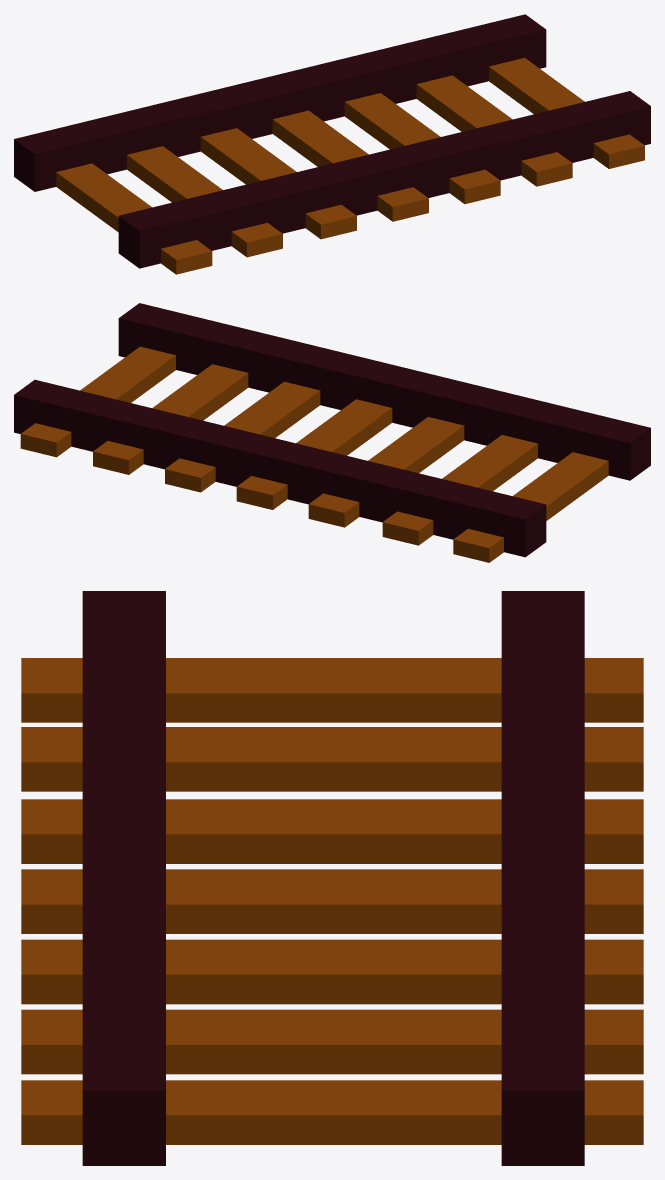
File: straightWood.fbx
3 renders of one model, top to bottom at view 1: azimuth 30°, elevation 25°; view 2: azimuth 150°, elevation 25°; view 3: azimuth 270°, elevation 25°, orthographic. The views are drawn at different scales.
Parts seen in each view (by area): view 1: Cube.001, Cube.003, Cube.002, Cube.005, Cube.006, Cube.007, Cube.008, Cube.004, Cube.009; view 2: Cube.003, Cube.001, Cube.002, Cube.006, Cube.005, Cube.004, Cube.009, Cube.008, Cube.007; view 3: Cube.001, Cube.003, Cube.007, Cube.008, Cube.002, Cube.004, Cube.005, Cube.006, Cube.009.
Boxes of the visible parts, box(x1,y1,x2,y2) form: Cube.001: box(118, 91, 650, 268); Cube.003: box(14, 14, 546, 191); Cube.002: box(56, 163, 212, 274); Cube.005: box(200, 128, 356, 239); Cube.006: box(272, 110, 428, 221); Cube.007: box(344, 93, 500, 203); Cube.008: box(416, 75, 572, 186); Cube.004: box(127, 146, 282, 257); Cube.009: box(489, 58, 644, 168); Cube.003: box(14, 379, 546, 557); Cube.001: box(118, 303, 650, 480); Cube.002: box(453, 452, 608, 562); Cube.006: box(236, 399, 392, 509); Cube.005: box(308, 417, 464, 527); Cube.004: box(382, 435, 537, 545); Cube.009: box(20, 346, 175, 457); Cube.008: box(93, 364, 248, 474); Cube.007: box(165, 381, 320, 492); Cube.001: box(82, 591, 165, 1165); Cube.003: box(501, 591, 584, 1165); Cube.007: box(21, 939, 643, 1004); Cube.008: box(21, 1009, 643, 1074); Cube.002: box(21, 658, 643, 722); Cube.004: box(21, 727, 643, 791); Cube.005: box(21, 799, 643, 863); Cube.006: box(21, 869, 643, 933); Cube.009: box(21, 1080, 643, 1144).
Size of the model in its own units: 1418 by 100 by 747.
